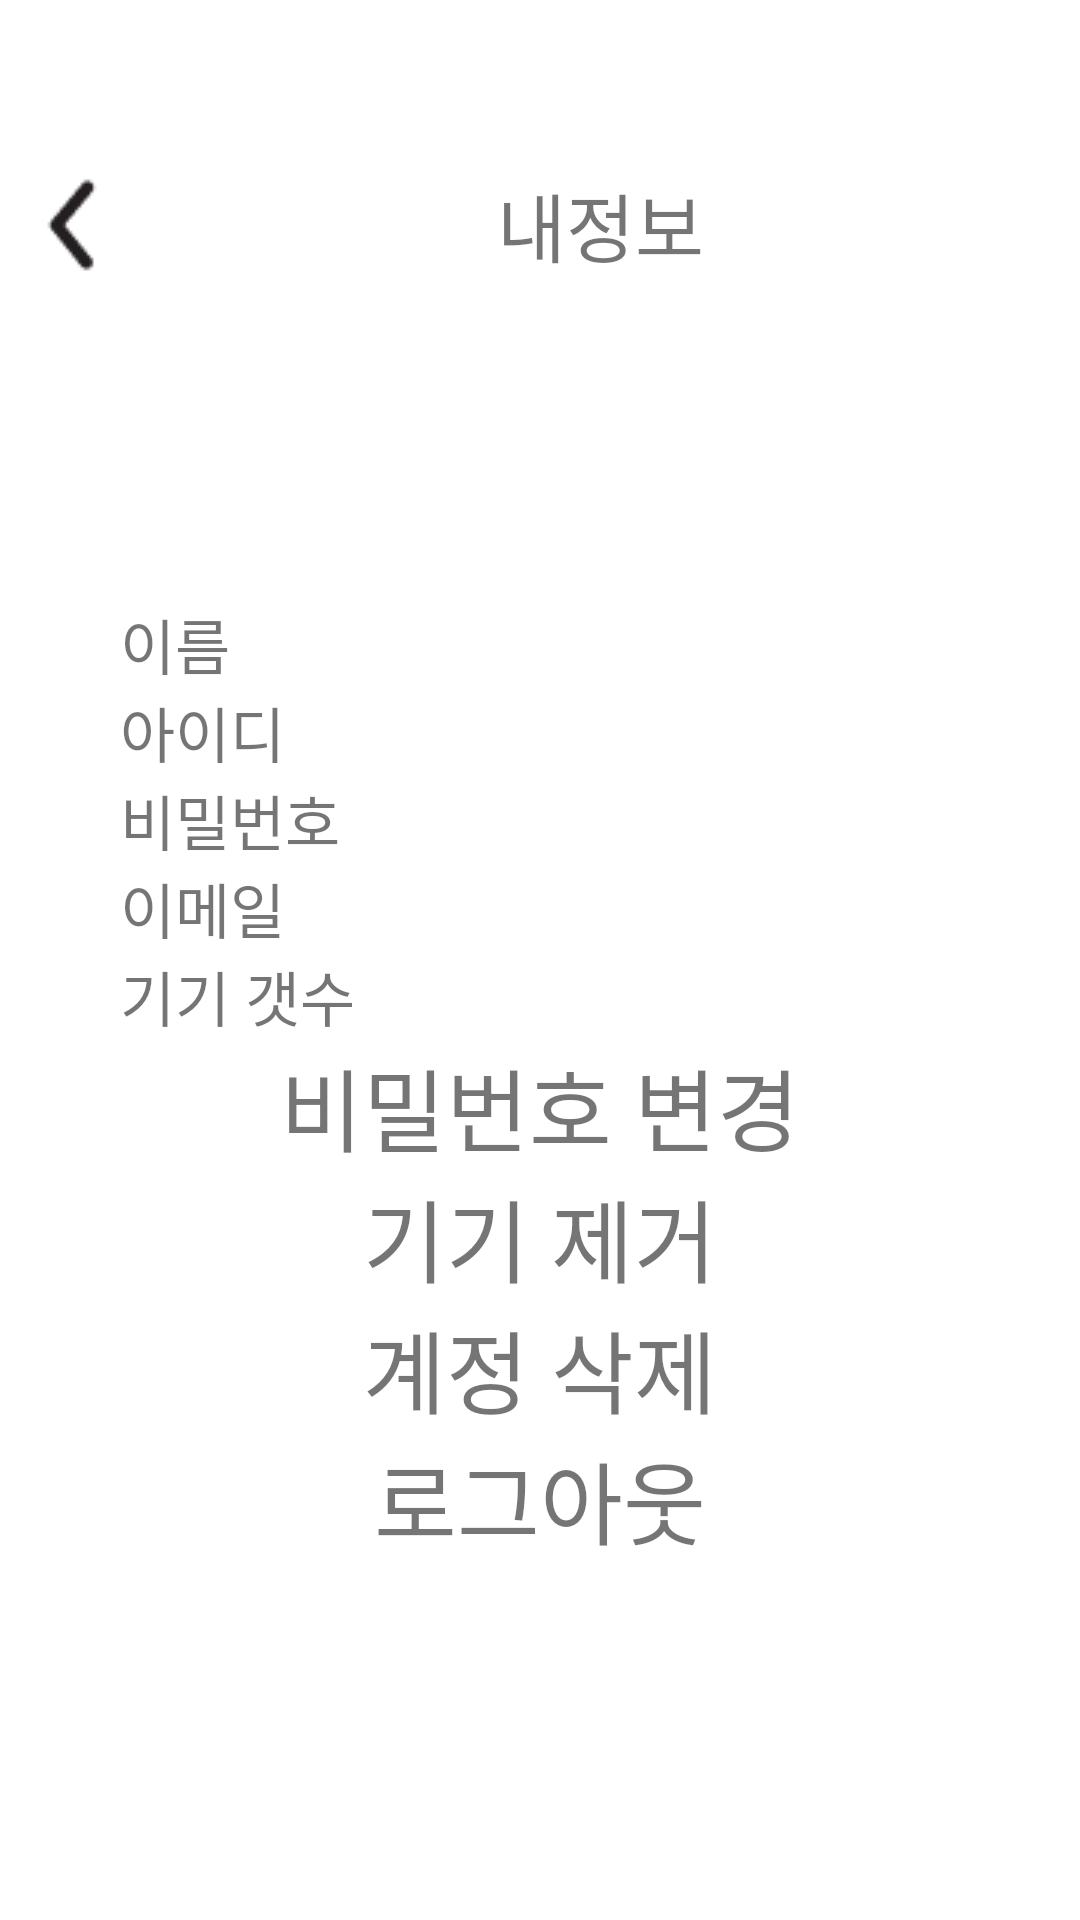

Named icons in this screenshot (1080px×1920px) and their centers, [x,y]:
back: [72,225]
